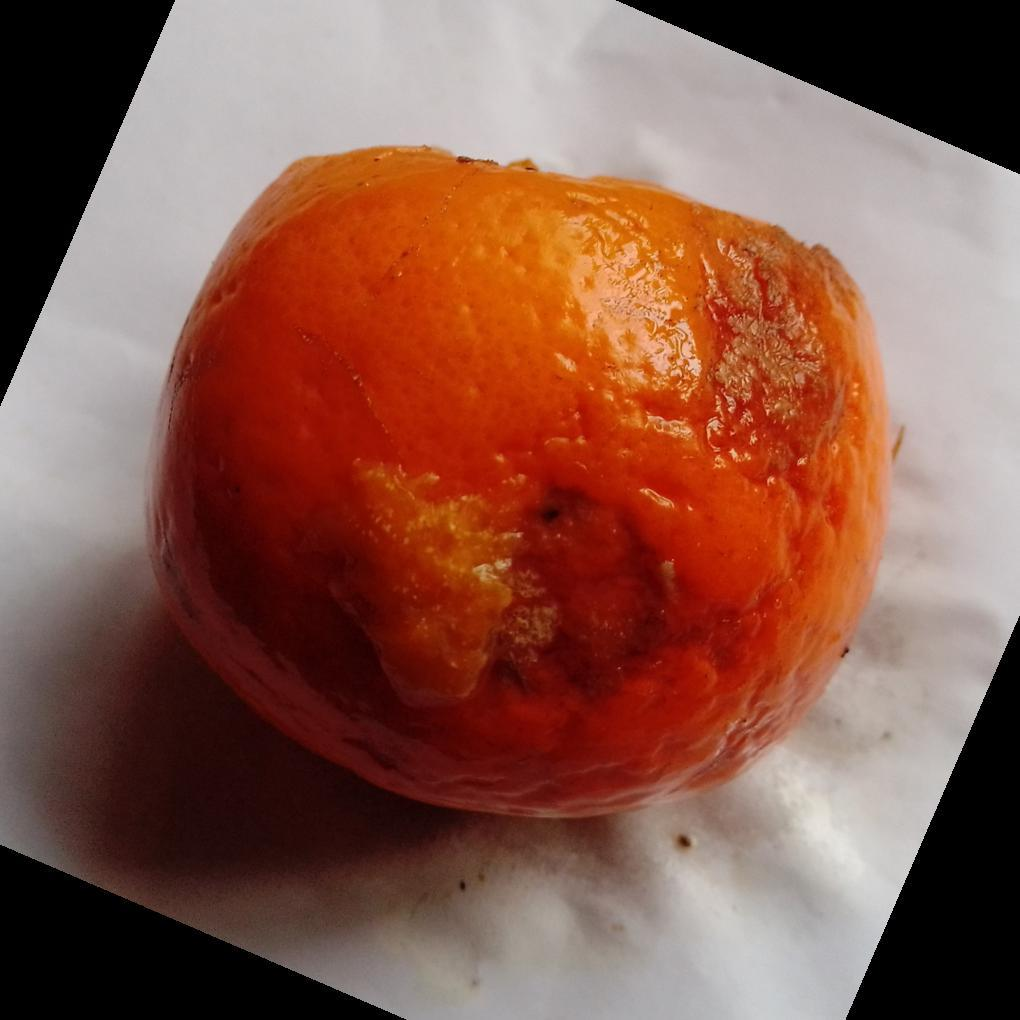FreshOrange: (144, 147, 900, 824)
